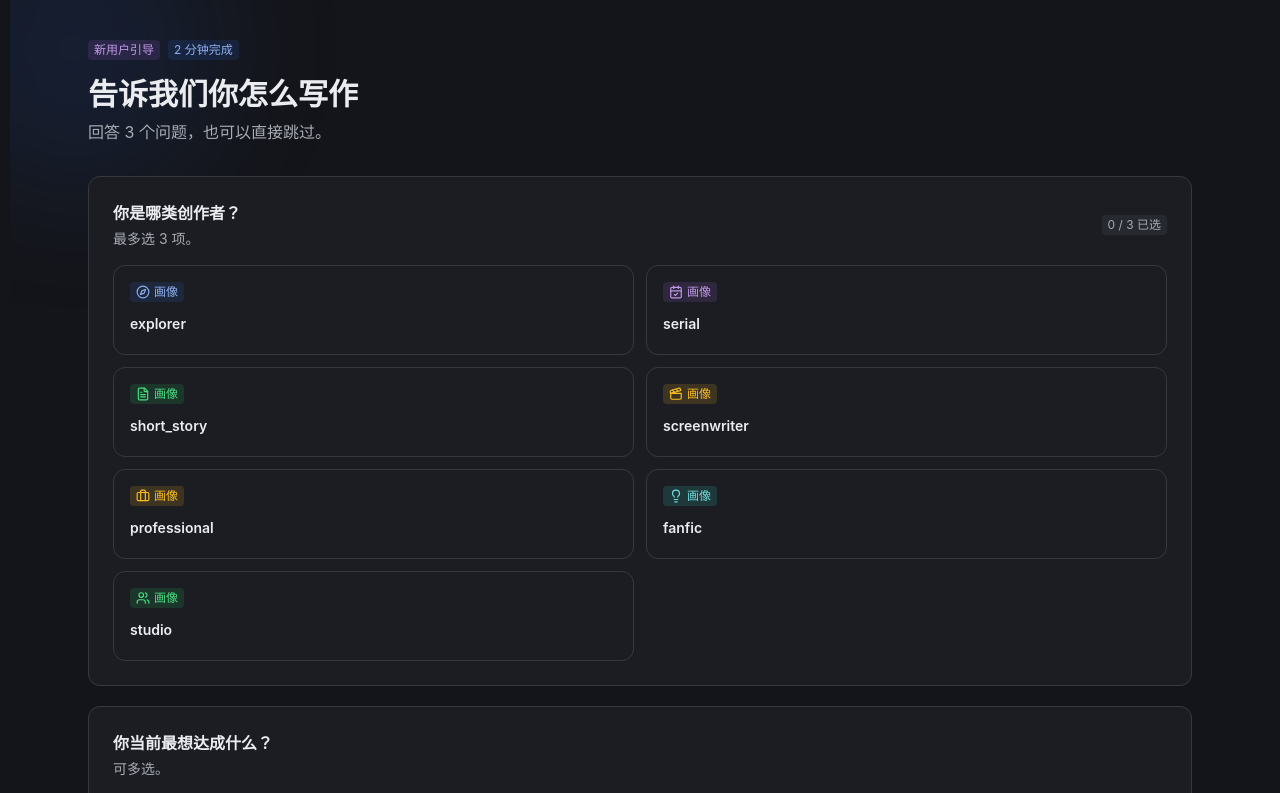
OnboardingPersonaPage › enforces max persona selection limit
The width and height of the screenshot is (1280, 793).
Click the button "画像 explorer" at (157, 292), box [113,265,634,355]
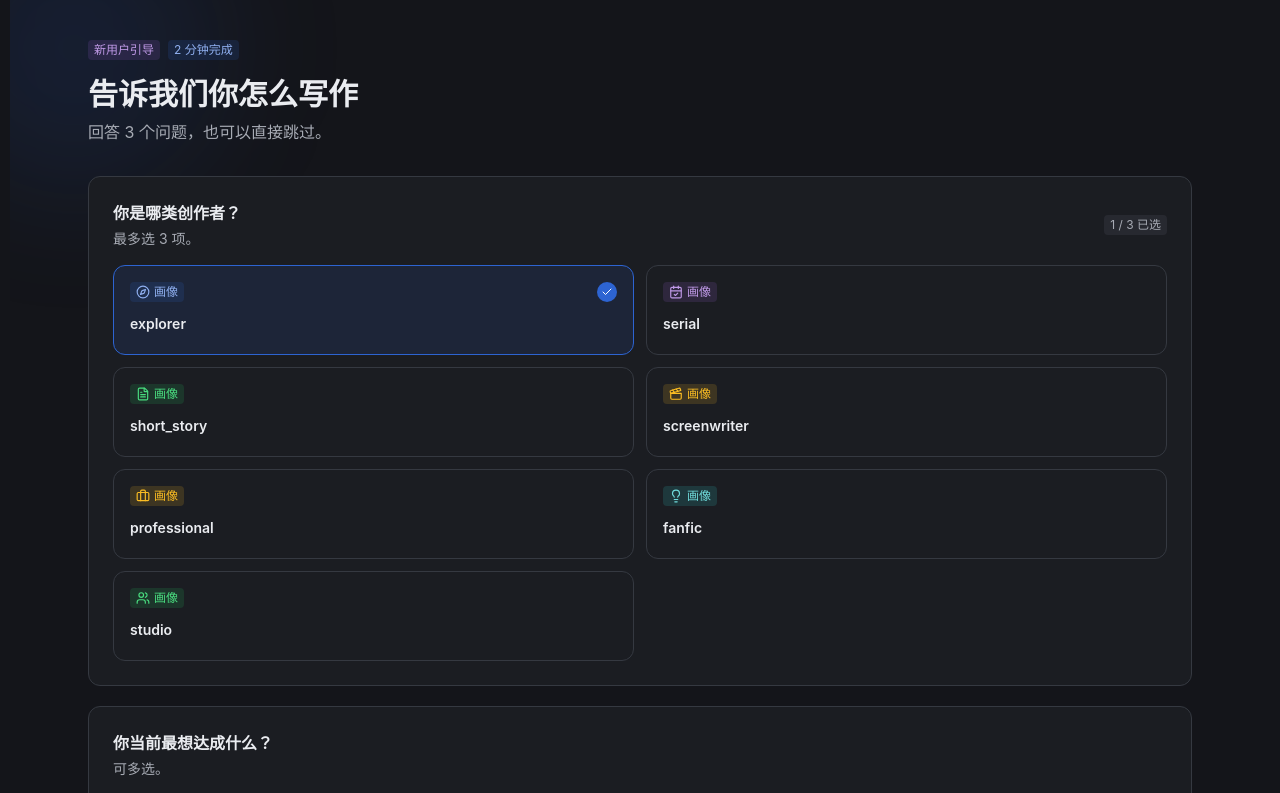
Click the button "画像 serial" at (690, 292), box [646,265,1167,355]
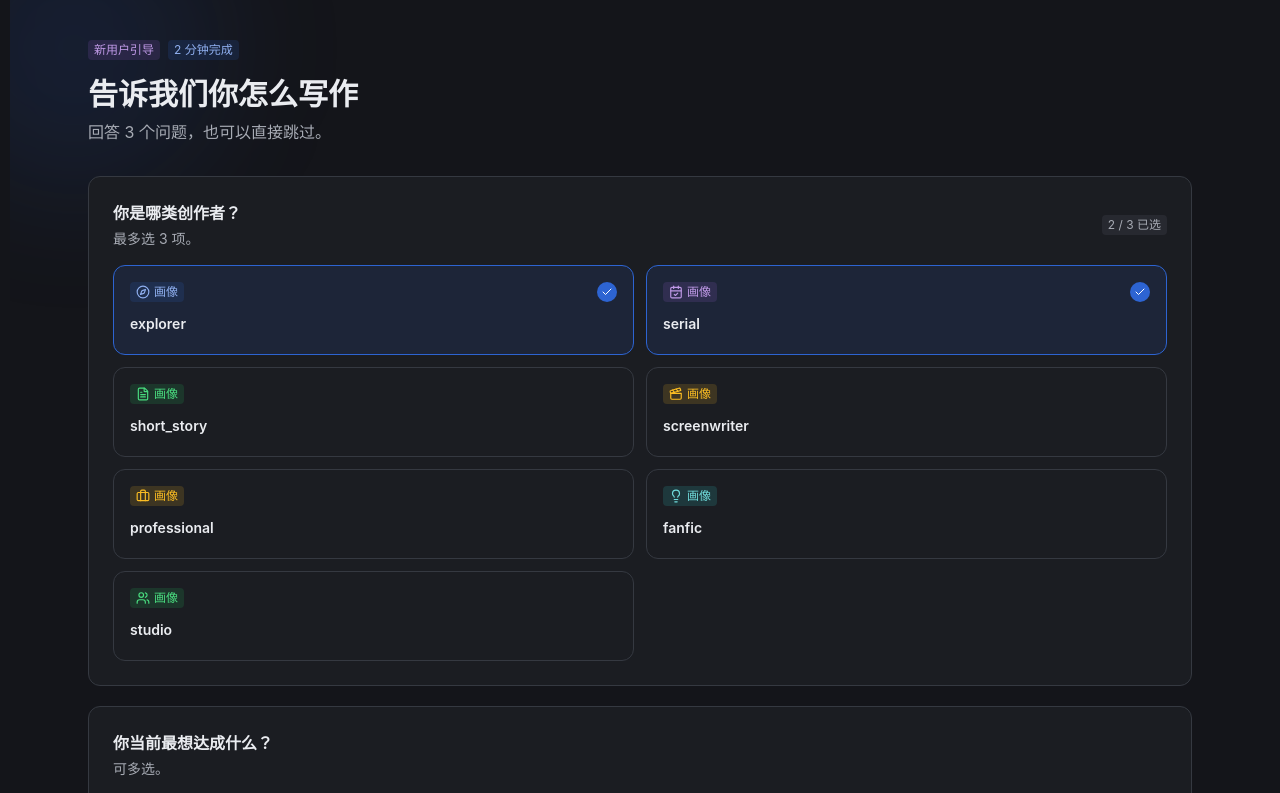
Click the button "画像 professional" at (157, 496), box [113,469,634,559]
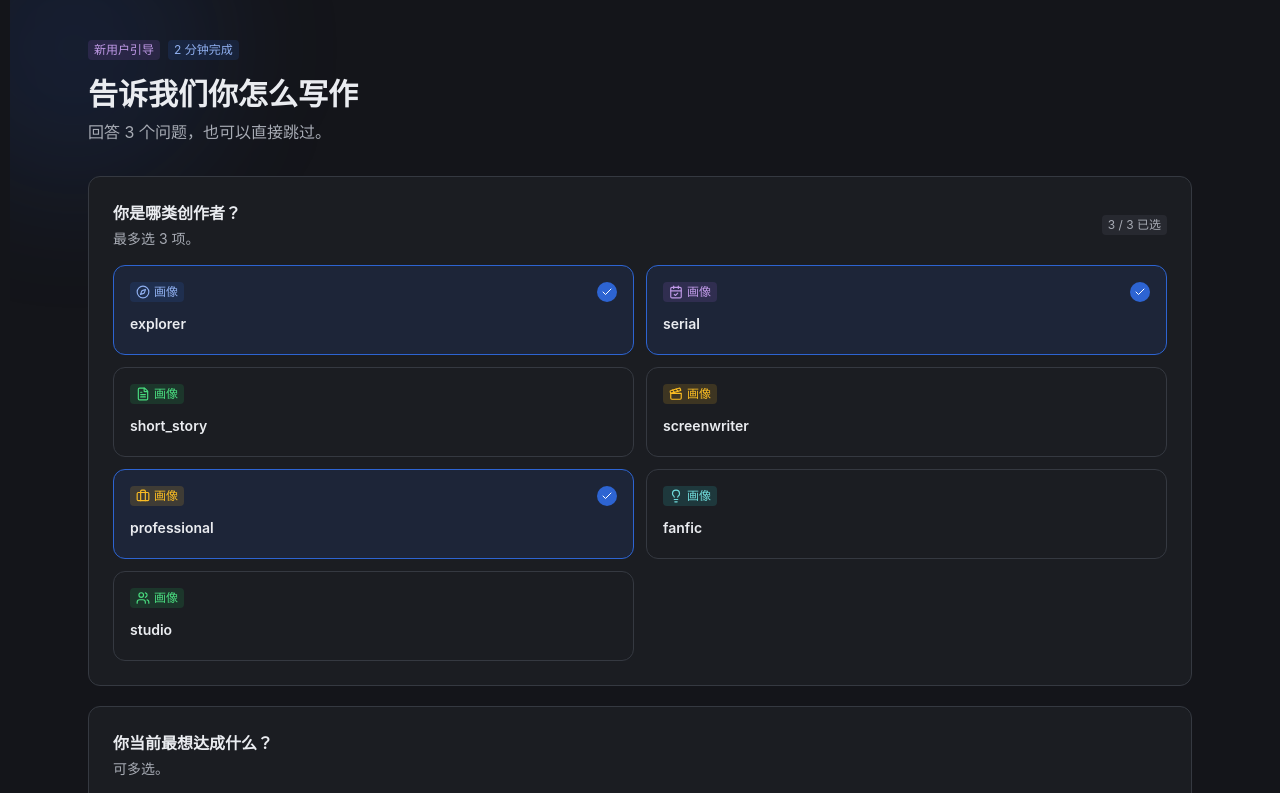
Click the button "画像 fanfic" at (690, 496), box [646,469,1167,559]
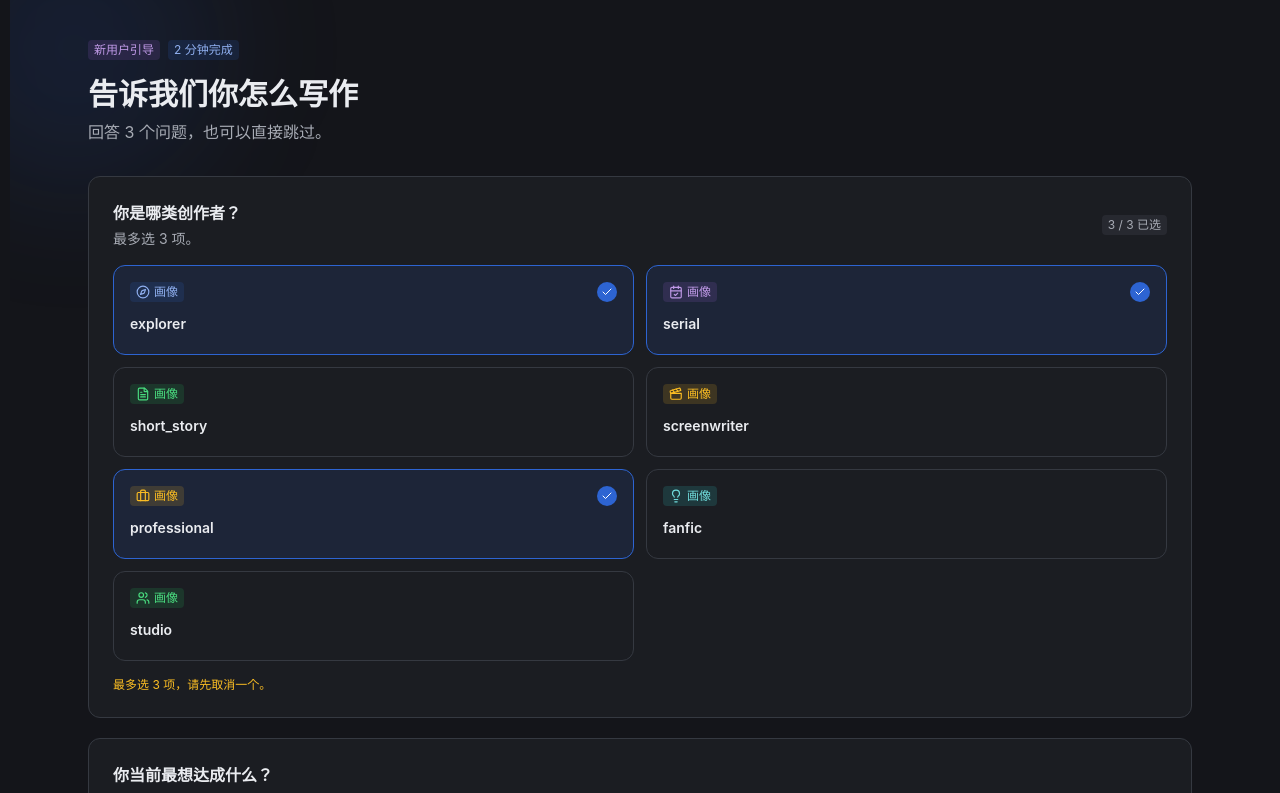
Now the text "3 / 3 已选" is shown, box [1108,217,1161,233]
Now the text "最多选 3 项，请先取消一个。" is shown, box [113,677,271,692]
